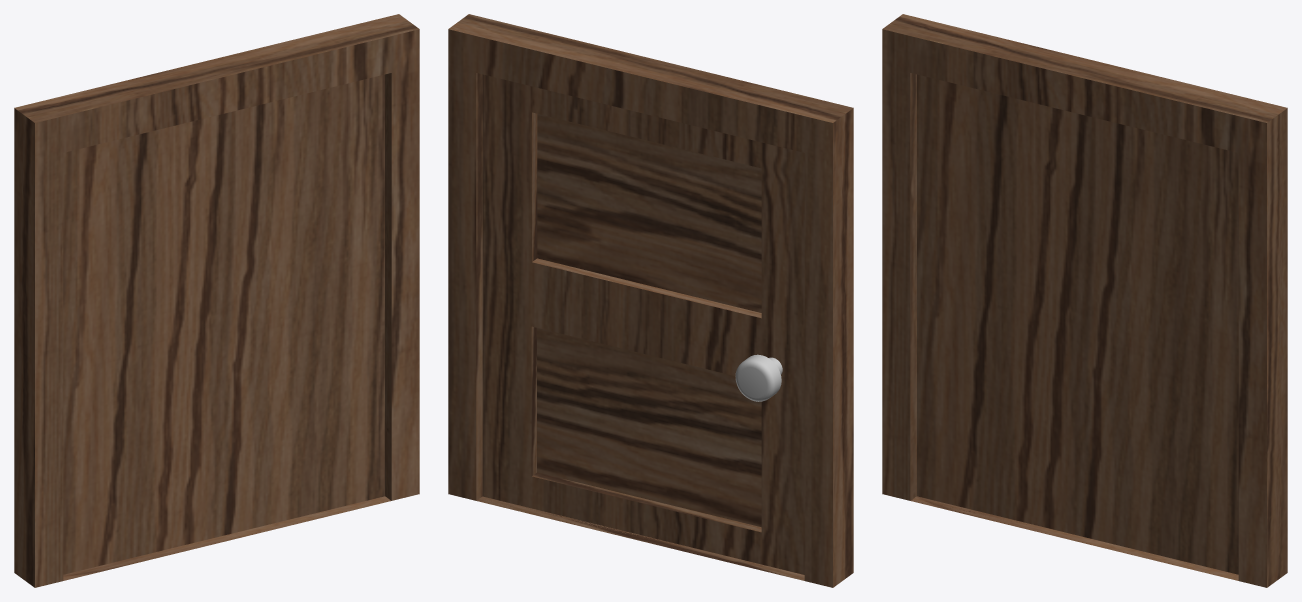
The model's file is porta.fbx.
The picture shows the model from 3 angles, left to right: view 1: azimuth 30°, elevation 25°; view 2: azimuth 150°, elevation 25°; view 3: azimuth 330°, elevation 25°; orthographic projection.
Visible parts, largest first — view 1: porta, portal; view 2: porta, portal; view 3: porta, portal.
Boxes of the visible parts, x1=… form: porta: x1=63, y1=74, x2=384, y2=574; portal: x1=14, y1=14, x2=419, y2=587; porta: x1=482, y1=74, x2=804, y2=574; portal: x1=448, y1=14, x2=853, y2=587; porta: x1=917, y1=74, x2=1238, y2=574; portal: x1=882, y1=14, x2=1287, y2=587.
Bounding box in the file's own units: 244 × 282 × 38.65.
Materials: 2 (1 with a texture image).
